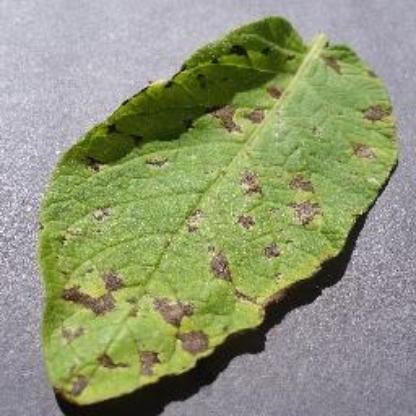Early-Blight: (40, 13, 400, 408)
